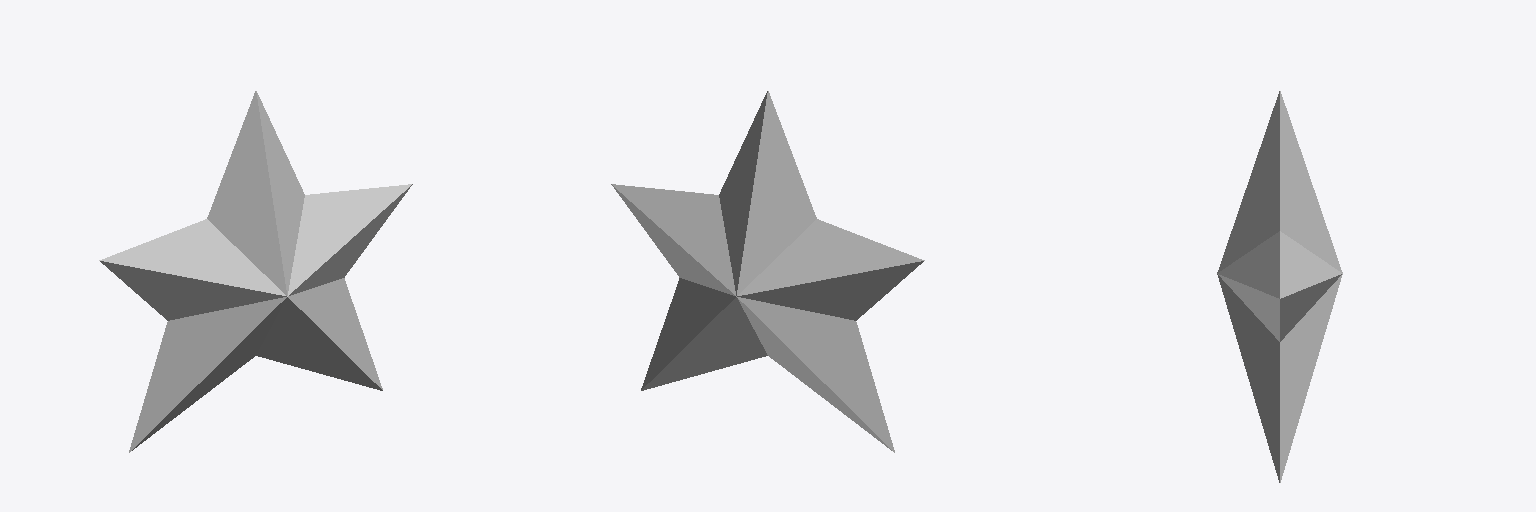
Rendered from star.obj.
3 renders of one model, left to right at view 1: azimuth 30°, elevation 25°; view 2: azimuth 150°, elevation 25°; view 3: azimuth 270°, elevation 25°, orthographic.
Parts seen in each view (by area): view 1: isl_Star_01_DEF.obj; view 2: isl_Star_01_DEF.obj; view 3: isl_Star_01_DEF.obj.
Part boxes in pixels (bbox=[...]): isl_Star_01_DEF.obj: bbox=[99, 91, 412, 452]; isl_Star_01_DEF.obj: bbox=[611, 91, 924, 452]; isl_Star_01_DEF.obj: bbox=[1217, 91, 1342, 482].
Bounding box in the file's own units: 0.8 × 0.8111 × 0.2775.